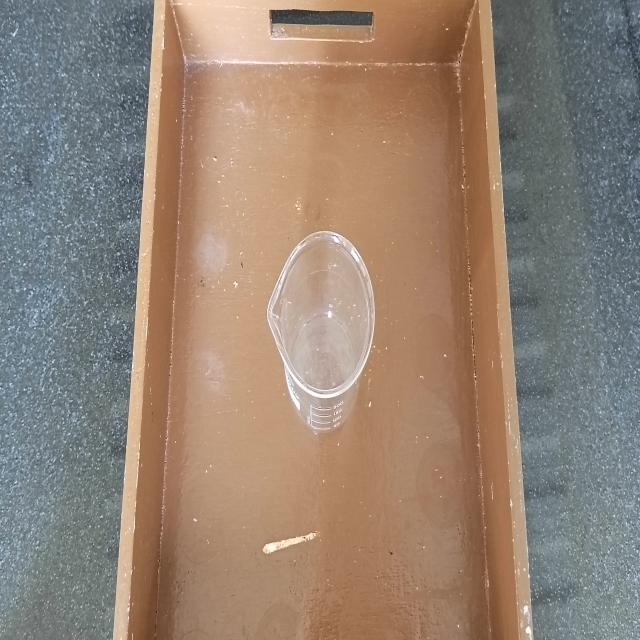beaker: (262, 218, 381, 446)
